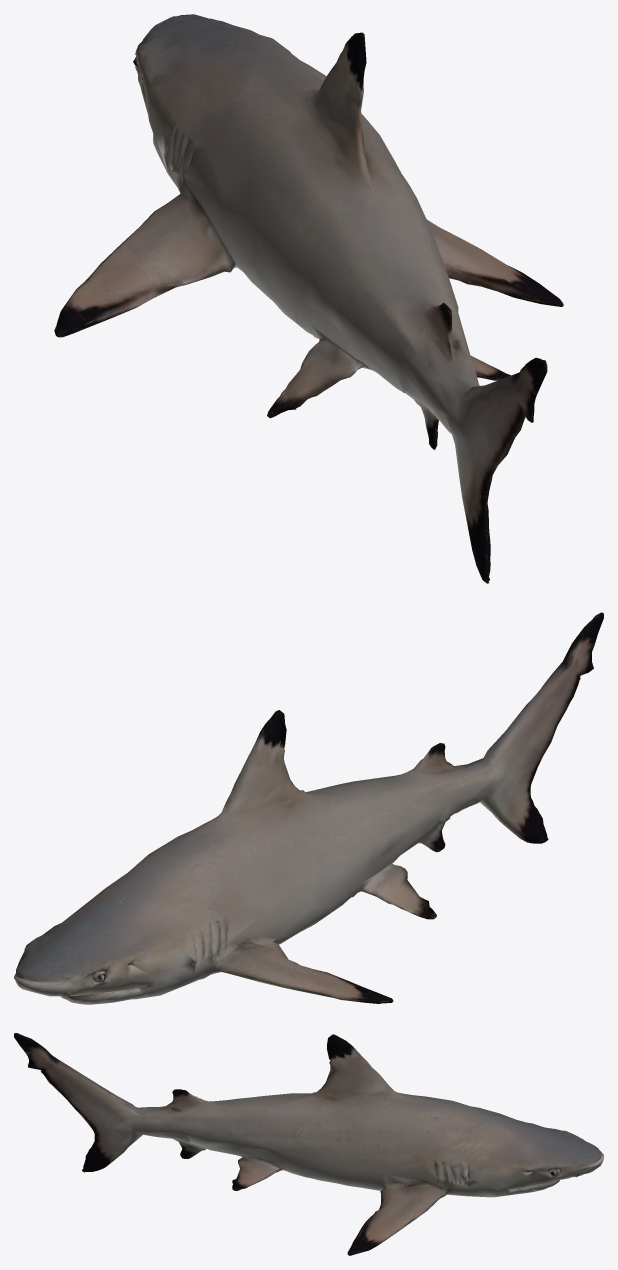
Rendered from zwartpunt.glb.
The picture shows the model from 3 angles, top to bottom: view 1: azimuth 30°, elevation 25°; view 2: azimuth 150°, elevation 25°; view 3: azimuth 270°, elevation 25°; orthographic projection. The views are drawn at different scales.
Parts seen in each view (by area): view 1: tripo_node_e9f63809-60fd-4c2d-8f84-c67a145bb234; view 2: tripo_node_e9f63809-60fd-4c2d-8f84-c67a145bb234; view 3: tripo_node_e9f63809-60fd-4c2d-8f84-c67a145bb234.
Boxes of the visible parts, <box> form: tripo_node_e9f63809-60fd-4c2d-8f84-c67a145bb234: <box>54,14,563,583</box>; tripo_node_e9f63809-60fd-4c2d-8f84-c67a145bb234: <box>14,612,603,1004</box>; tripo_node_e9f63809-60fd-4c2d-8f84-c67a145bb234: <box>14,1033,603,1255</box>.
Size of the model in its own units: 2.1 by 1.5 by 4.76.
1 material, 1 textured.
